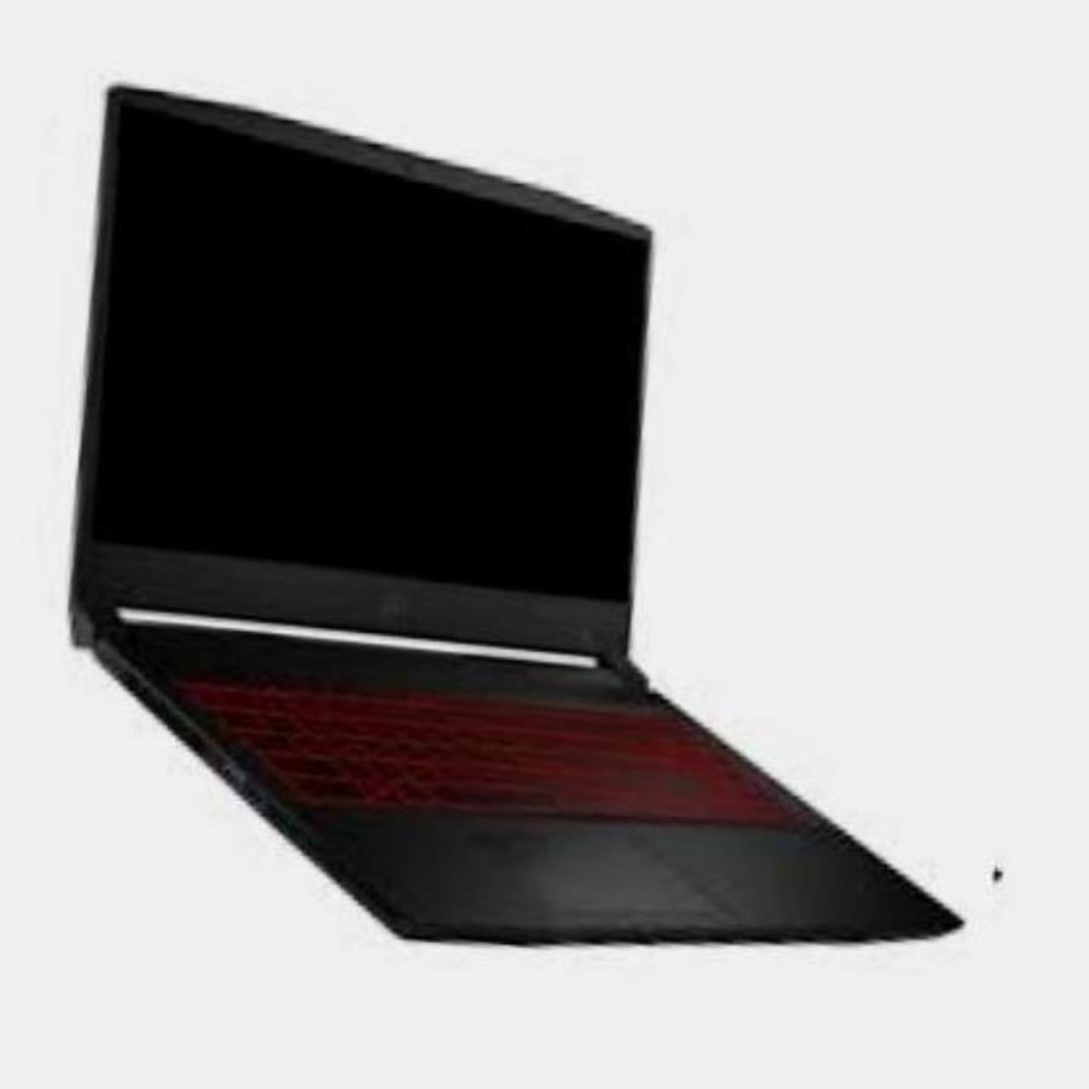laptop: (1, 82, 1047, 987)
